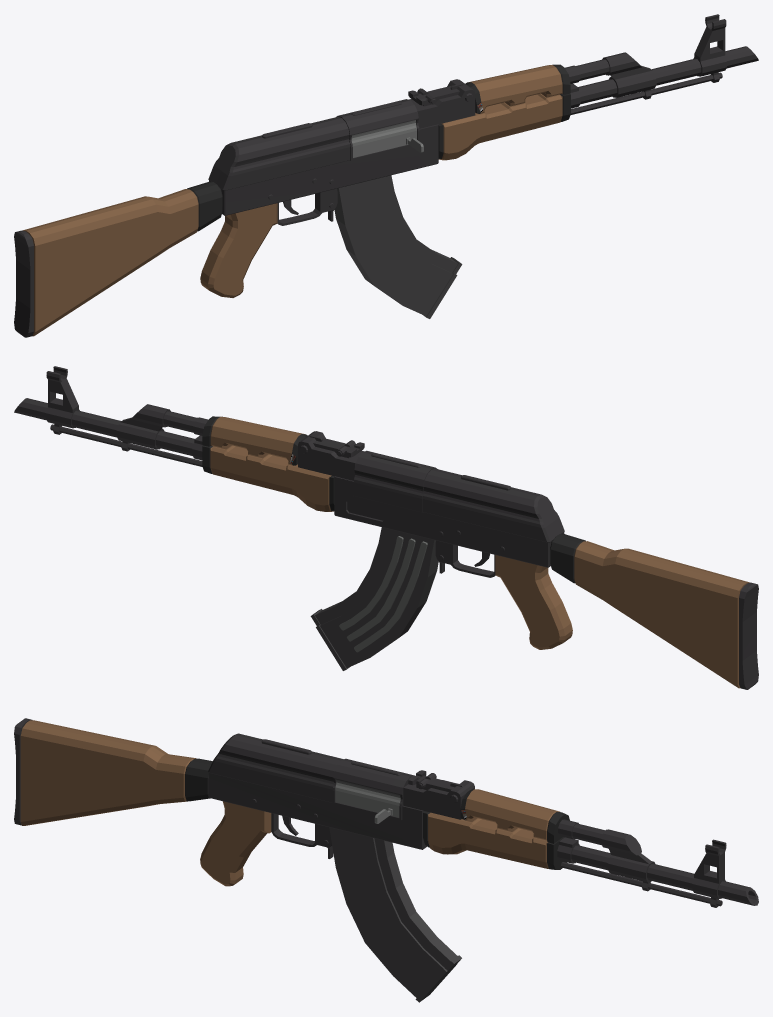
Rendered from SM_Rifle_02.glb.
3 views of the same model, one above another, from view 1: azimuth 30°, elevation 25°; view 2: azimuth 150°, elevation 25°; view 3: azimuth 330°, elevation 25° (orthographic).
Visible parts, largest first — view 1: SM_Rifle_02; view 2: SM_Rifle_02; view 3: SM_Rifle_02.
Part boxes in pixels (<box>): SM_Rifle_02: <box>14,14,758,337</box>; SM_Rifle_02: <box>14,366,758,689</box>; SM_Rifle_02: <box>14,718,758,1002</box>.
Bounding box in the file's own units: 1.06 × 0.3116 × 0.0801.
Materials: 1 (1 with a texture image).
